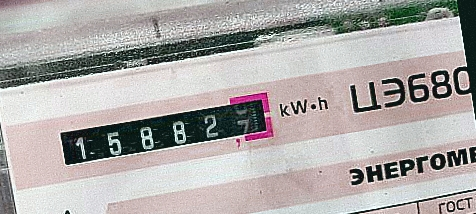1: (71, 132, 89, 162)
2: (200, 110, 221, 140)
5: (103, 127, 125, 157)
7: (234, 115, 252, 134)
8: (135, 122, 156, 152), (169, 116, 188, 146)
screen: (43, 82, 285, 179)
